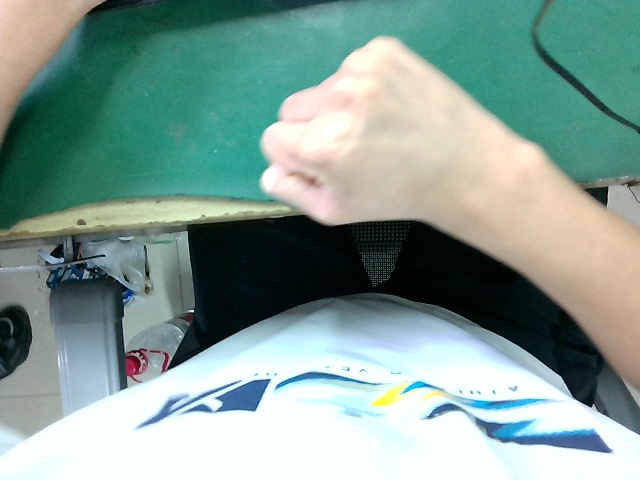stone: (245, 16, 516, 249)
